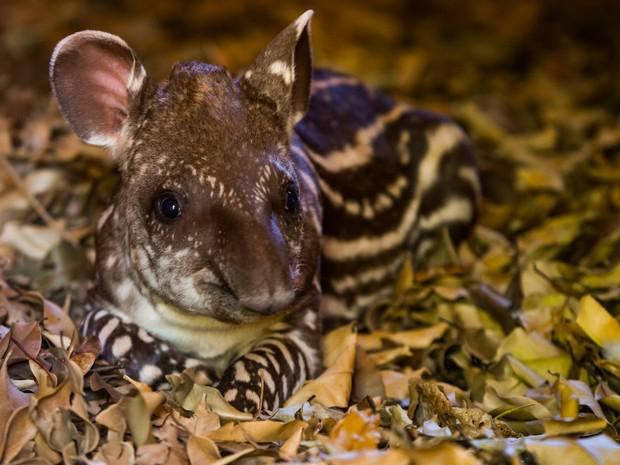Anta: (39, 8, 493, 419)
